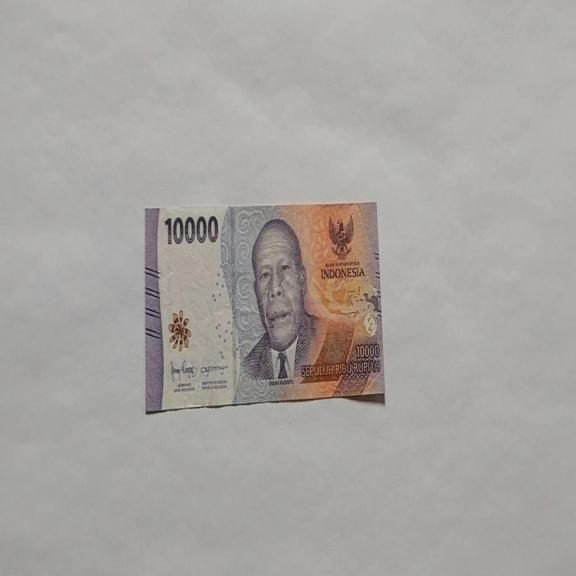Kertas: (144, 200, 386, 414), (163, 213, 219, 246)
